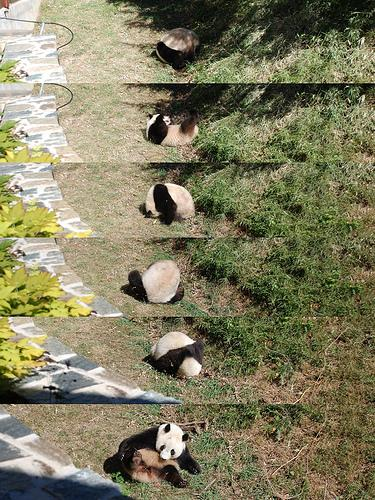panda: (106, 423, 200, 487), (144, 332, 203, 377), (121, 261, 183, 303), (146, 183, 194, 224), (147, 111, 198, 146), (155, 28, 198, 69)
